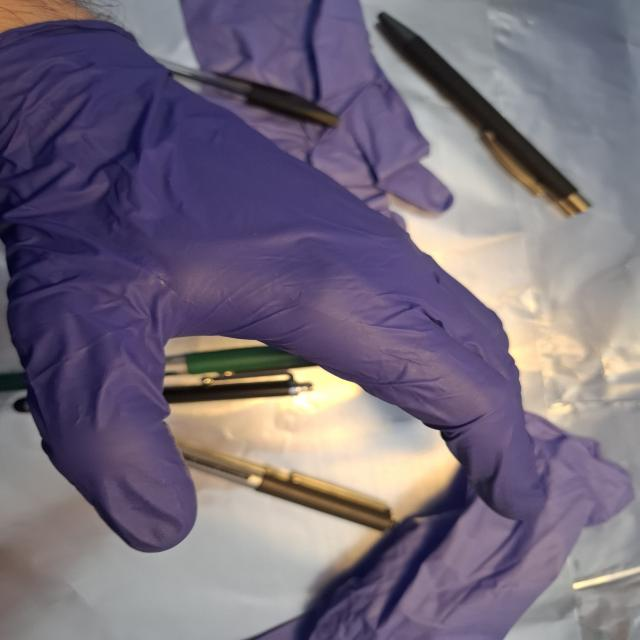glove_on: (0, 15, 548, 552)
